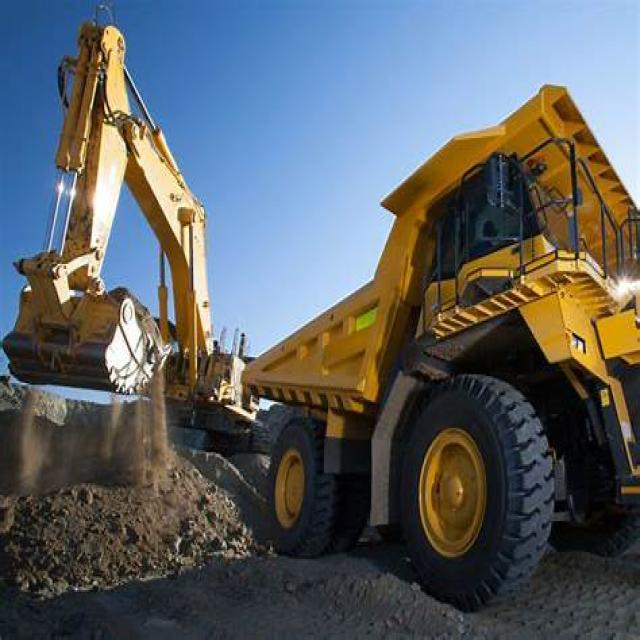dump_truck: (236, 52, 639, 618)
